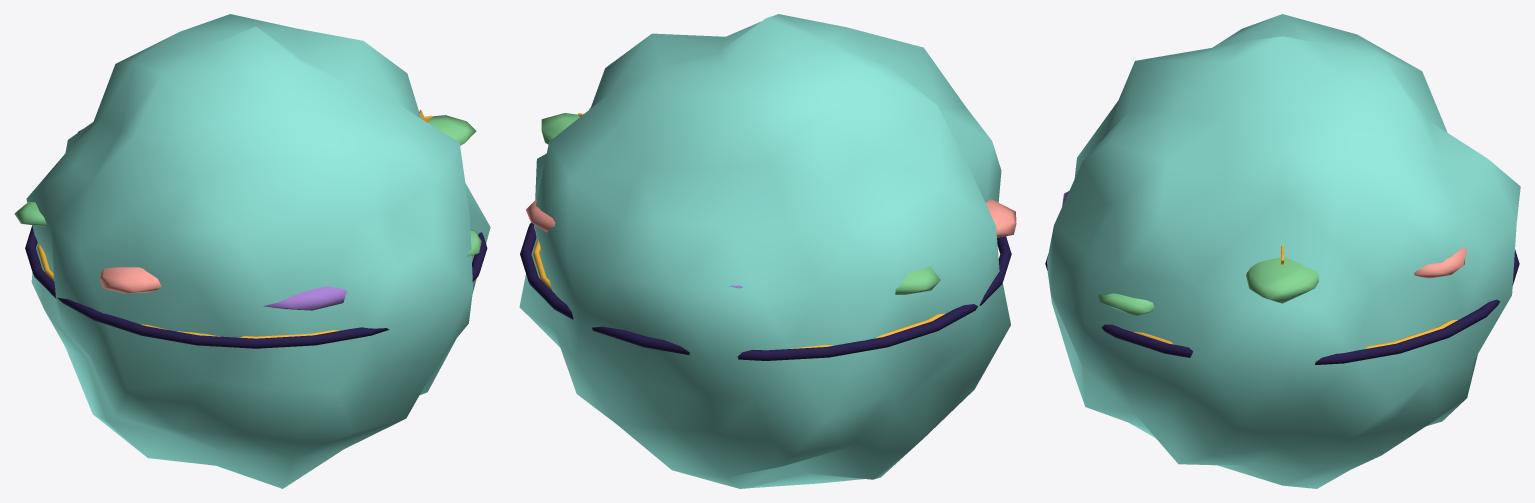
File: r043_butterfly_world_world_overall_butterfly_world.glb
The picture shows the model from 3 angles, left to right: view 1: azimuth 30°, elevation 25°; view 2: azimuth 150°, elevation 25°; view 3: azimuth 270°, elevation 25°; orthographic projection. The views are drawn at different scales.
Parts seen in each view (by area): view 1: r043_butterfly_world_world_overall_butterfly_world.001; view 2: r043_butterfly_world_world_overall_butterfly_world.001; view 3: r043_butterfly_world_world_overall_butterfly_world.001.
Boxes of the visible parts, left/top/right/bottom form: r043_butterfly_world_world_overall_butterfly_world.001: left=14, top=14, right=490, bottom=488; r043_butterfly_world_world_overall_butterfly_world.001: left=519, top=14, right=1016, bottom=488; r043_butterfly_world_world_overall_butterfly_world.001: left=1045, top=14, right=1520, bottom=488.
Size of the model in its own units: 12.46 by 12.21 by 12.07.
